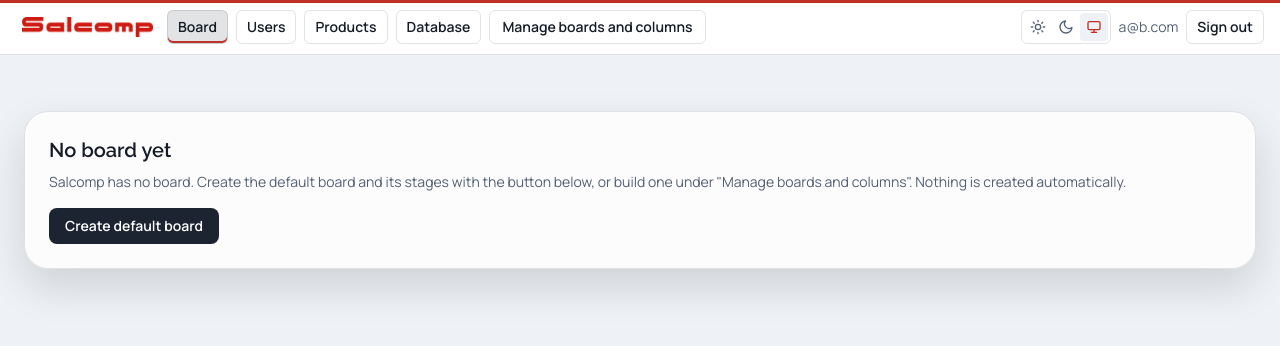
create default board › re-reads the board list after database_busy (503) before inviting a retry
Click the button "Create default board". click: (134, 226)
box: [49,208,219,244]
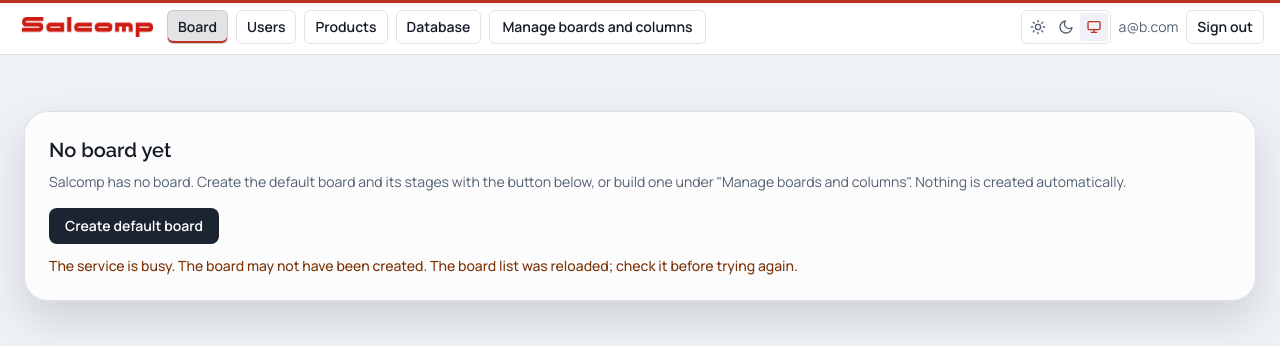
Expected: the message with test id "default-board-notice" shows "board list was reloaded; check it before trying again", [49,256,798,275]
